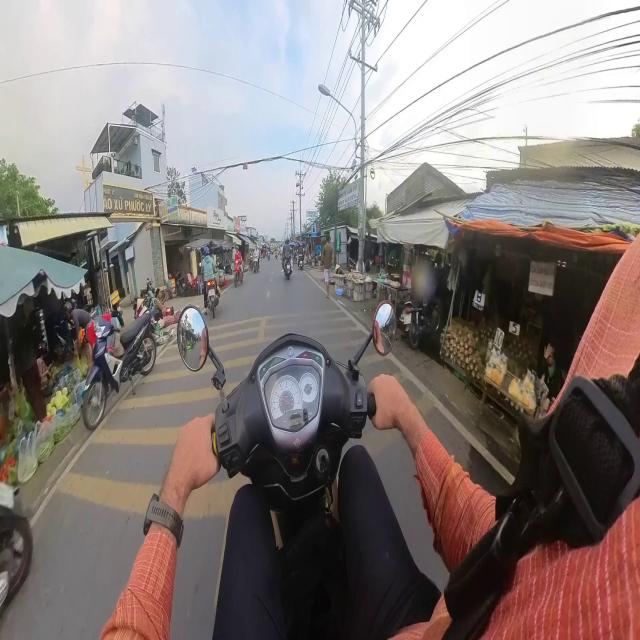motorcycle: (178, 302, 396, 637), (82, 313, 156, 430), (0, 483, 32, 612), (401, 299, 442, 349), (207, 279, 219, 318), (234, 263, 243, 286), (283, 257, 291, 279), (298, 254, 304, 270)
